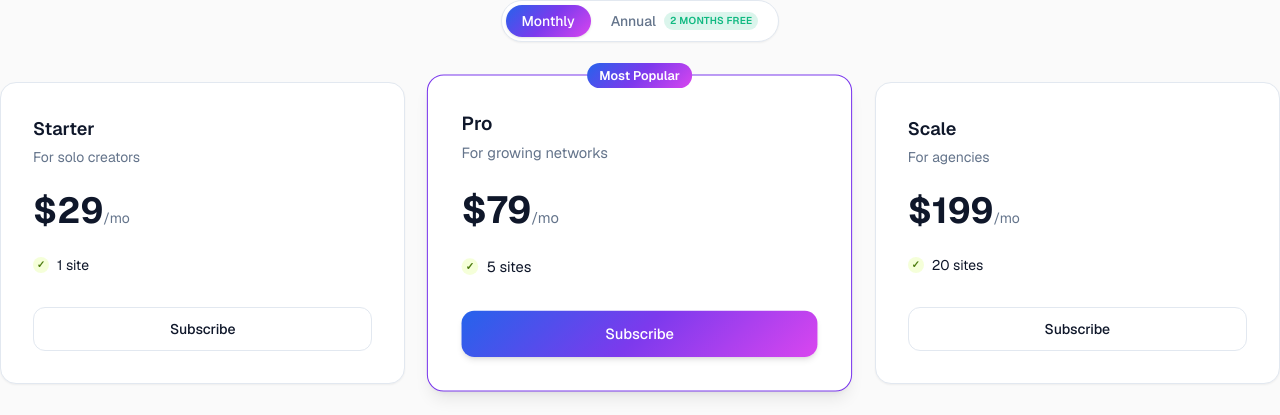
Test: PricingTableConnector › switches to annual prices and yearly hrefs when toggled
Click the tab "Annual 2 months free". click: click(684, 21)
box: [595,5,774,37]
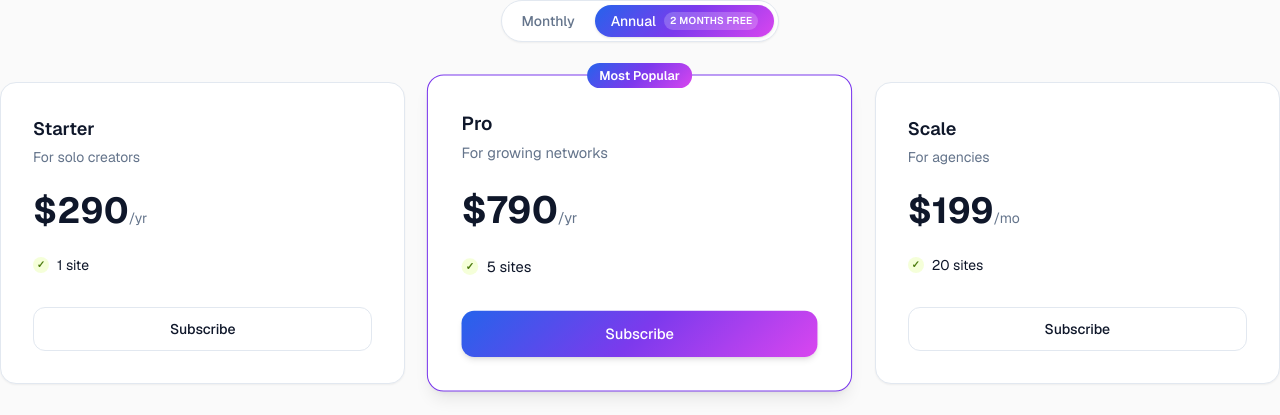
Expected: the text "$290" is shown, [33,187,129,234]
Expected: the text "$790" is shown, [462,185,558,234]
